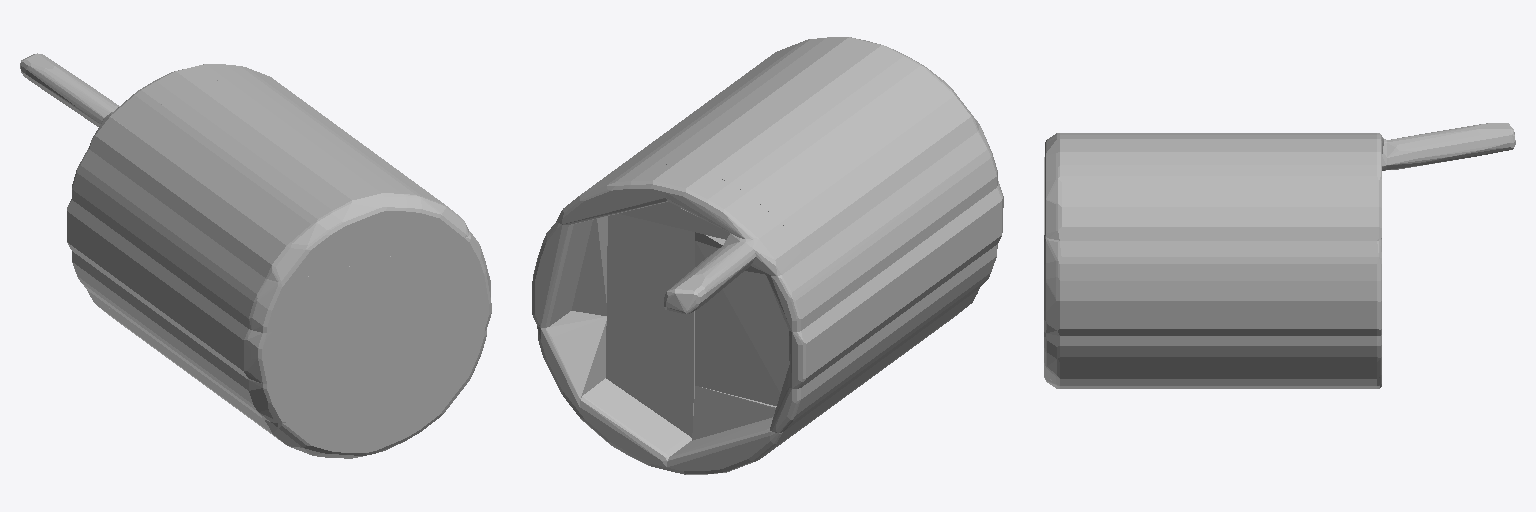
URDF robot description (root):
<robot name="root">
  <link name="link_coacd_convex_piece_0">
    <inertial>
      <origin xyz="0 0 0" rpy="0 0 0"/>
      <inertia ixx="1.39E-03" ixy="6.05E-04" ixz="3.24E-04" iyy="6.59E-04" iyz="-7.02E-04" izz="1.29E-03"/>
    </inertial>
    <visual>
      <origin xyz="0 0 0" rpy="0 0 0"/>
      <geometry>
        <mesh filename="coacd_convex_piece_0.obj" scale="1.0000E+00 1.0000E+00 1.0000E+00"/>
      </geometry>
      <material name="">
        <color rgba="7.50E-01 7.50E-01 7.50E-01 1"/>
      </material>
    </visual>
    <collision>
      <origin xyz="0 0 0" rpy="0 0 0"/>
      <geometry>
        <mesh filename="coacd_convex_piece_0.obj" scale="1.0000E+00 1.0000E+00 1.0000E+00"/>
      </geometry>
    </collision>
  </link>
  <link name="link_coacd_convex_piece_1">
    <inertial>
      <origin xyz="0 0 0" rpy="0 0 0"/>
      <inertia ixx="5.13E-04" ixy="-2.13E-04" ixz="-2.50E-04" iyy="7.11E-04" iyz="-4.26E-04" izz="1.42E-04"/>
    </inertial>
    <visual>
      <origin xyz="0 0 0" rpy="0 0 0"/>
      <geometry>
        <mesh filename="coacd_convex_piece_1.obj" scale="1.0000E+00 1.0000E+00 1.0000E+00"/>
      </geometry>
      <material name="">
        <color rgba="7.50E-01 7.50E-01 7.50E-01 1"/>
      </material>
    </visual>
    <collision>
      <origin xyz="0 0 0" rpy="0 0 0"/>
      <geometry>
        <mesh filename="coacd_convex_piece_1.obj" scale="1.0000E+00 1.0000E+00 1.0000E+00"/>
      </geometry>
    </collision>
  </link>
  <joint name="link_coacd_convex_piece_1_joint" type="fixed">
    <origin xyz="0 0 0" rpy="0 0 0"/>
    <parent link="link_coacd_convex_piece_0"/>
    <child link="link_coacd_convex_piece_1"/>
  </joint>
  <link name="link_coacd_convex_piece_2">
    <inertial>
      <origin xyz="0 0 0" rpy="0 0 0"/>
      <inertia ixx="2.21E-02" ixy="-2.87E-06" ixz="5.48E-07" iyy="1.56E-02" iyz="1.09E-02" izz="1.31E-02"/>
    </inertial>
    <visual>
      <origin xyz="0 0 0" rpy="0 0 0"/>
      <geometry>
        <mesh filename="coacd_convex_piece_2.obj" scale="1.0000E+00 1.0000E+00 1.0000E+00"/>
      </geometry>
      <material name="">
        <color rgba="7.50E-01 7.50E-01 7.50E-01 1"/>
      </material>
    </visual>
    <collision>
      <origin xyz="0 0 0" rpy="0 0 0"/>
      <geometry>
        <mesh filename="coacd_convex_piece_2.obj" scale="1.0000E+00 1.0000E+00 1.0000E+00"/>
      </geometry>
    </collision>
  </link>
  <joint name="link_coacd_convex_piece_2_joint" type="fixed">
    <origin xyz="0 0 0" rpy="0 0 0"/>
    <parent link="link_coacd_convex_piece_1"/>
    <child link="link_coacd_convex_piece_2"/>
  </joint>
  <link name="link_coacd_convex_piece_3">
    <inertial>
      <origin xyz="0 0 0" rpy="0 0 0"/>
      <inertia ixx="1.83E-03" ixy="-1.55E-03" ixz="-9.84E-04" iyy="2.79E-03" iyz="-6.61E-04" izz="3.71E-03"/>
    </inertial>
    <visual>
      <origin xyz="0 0 0" rpy="0 0 0"/>
      <geometry>
        <mesh filename="coacd_convex_piece_3.obj" scale="1.0000E+00 1.0000E+00 1.0000E+00"/>
      </geometry>
      <material name="">
        <color rgba="7.50E-01 7.50E-01 7.50E-01 1"/>
      </material>
    </visual>
    <collision>
      <origin xyz="0 0 0" rpy="0 0 0"/>
      <geometry>
        <mesh filename="coacd_convex_piece_3.obj" scale="1.0000E+00 1.0000E+00 1.0000E+00"/>
      </geometry>
    </collision>
  </link>
  <joint name="link_coacd_convex_piece_3_joint" type="fixed">
    <origin xyz="0 0 0" rpy="0 0 0"/>
    <parent link="link_coacd_convex_piece_2"/>
    <child link="link_coacd_convex_piece_3"/>
  </joint>
  <link name="link_coacd_convex_piece_4">
    <inertial>
      <origin xyz="0 0 0" rpy="0 0 0"/>
      <inertia ixx="3.49E-03" ixy="2.43E-03" ixz="1.88E-03" iyy="4.68E-03" iyz="-1.32E-03" izz="5.83E-03"/>
    </inertial>
    <visual>
      <origin xyz="0 0 0" rpy="0 0 0"/>
      <geometry>
        <mesh filename="coacd_convex_piece_4.obj" scale="1.0000E+00 1.0000E+00 1.0000E+00"/>
      </geometry>
      <material name="">
        <color rgba="7.50E-01 7.50E-01 7.50E-01 1"/>
      </material>
    </visual>
    <collision>
      <origin xyz="0 0 0" rpy="0 0 0"/>
      <geometry>
        <mesh filename="coacd_convex_piece_4.obj" scale="1.0000E+00 1.0000E+00 1.0000E+00"/>
      </geometry>
    </collision>
  </link>
  <joint name="link_coacd_convex_piece_4_joint" type="fixed">
    <origin xyz="0 0 0" rpy="0 0 0"/>
    <parent link="link_coacd_convex_piece_3"/>
    <child link="link_coacd_convex_piece_4"/>
  </joint>
  <link name="link_coacd_convex_piece_5">
    <inertial>
      <origin xyz="0 0 0" rpy="0 0 0"/>
      <inertia ixx="2.75E-02" ixy="8.50E-03" ixz="2.08E-03" iyy="1.40E-02" iyz="-5.06E-03" izz="2.37E-02"/>
    </inertial>
    <visual>
      <origin xyz="0 0 0" rpy="0 0 0"/>
      <geometry>
        <mesh filename="coacd_convex_piece_5.obj" scale="1.0000E+00 1.0000E+00 1.0000E+00"/>
      </geometry>
      <material name="">
        <color rgba="7.50E-01 7.50E-01 7.50E-01 1"/>
      </material>
    </visual>
    <collision>
      <origin xyz="0 0 0" rpy="0 0 0"/>
      <geometry>
        <mesh filename="coacd_convex_piece_5.obj" scale="1.0000E+00 1.0000E+00 1.0000E+00"/>
      </geometry>
    </collision>
  </link>
  <joint name="link_coacd_convex_piece_5_joint" type="fixed">
    <origin xyz="0 0 0" rpy="0 0 0"/>
    <parent link="link_coacd_convex_piece_4"/>
    <child link="link_coacd_convex_piece_5"/>
  </joint>
  <link name="link_coacd_convex_piece_6">
    <inertial>
      <origin xyz="0 0 0" rpy="0 0 0"/>
      <inertia ixx="5.06E-04" ixy="2.23E-04" ixz="-2.57E-04" iyy="7.17E-04" iyz="4.23E-04" izz="1.55E-04"/>
    </inertial>
    <visual>
      <origin xyz="0 0 0" rpy="0 0 0"/>
      <geometry>
        <mesh filename="coacd_convex_piece_6.obj" scale="1.0000E+00 1.0000E+00 1.0000E+00"/>
      </geometry>
      <material name="">
        <color rgba="7.50E-01 7.50E-01 7.50E-01 1"/>
      </material>
    </visual>
    <collision>
      <origin xyz="0 0 0" rpy="0 0 0"/>
      <geometry>
        <mesh filename="coacd_convex_piece_6.obj" scale="1.0000E+00 1.0000E+00 1.0000E+00"/>
      </geometry>
    </collision>
  </link>
  <joint name="link_coacd_convex_piece_6_joint" type="fixed">
    <origin xyz="0 0 0" rpy="0 0 0"/>
    <parent link="link_coacd_convex_piece_5"/>
    <child link="link_coacd_convex_piece_6"/>
  </joint>
  <link name="link_coacd_convex_piece_7">
    <inertial>
      <origin xyz="0 0 0" rpy="0 0 0"/>
      <inertia ixx="1.17E-02" ixy="-2.66E-03" ixz="-2.75E-03" iyy="8.23E-03" iyz="-5.78E-03" izz="7.17E-03"/>
    </inertial>
    <visual>
      <origin xyz="0 0 0" rpy="0 0 0"/>
      <geometry>
        <mesh filename="coacd_convex_piece_7.obj" scale="1.0000E+00 1.0000E+00 1.0000E+00"/>
      </geometry>
      <material name="">
        <color rgba="7.50E-01 7.50E-01 7.50E-01 1"/>
      </material>
    </visual>
    <collision>
      <origin xyz="0 0 0" rpy="0 0 0"/>
      <geometry>
        <mesh filename="coacd_convex_piece_7.obj" scale="1.0000E+00 1.0000E+00 1.0000E+00"/>
      </geometry>
    </collision>
  </link>
  <joint name="link_coacd_convex_piece_7_joint" type="fixed">
    <origin xyz="0 0 0" rpy="0 0 0"/>
    <parent link="link_coacd_convex_piece_6"/>
    <child link="link_coacd_convex_piece_7"/>
  </joint>
  <link name="link_coacd_convex_piece_8">
    <inertial>
      <origin xyz="0 0 0" rpy="0 0 0"/>
      <inertia ixx="3.29E-04" ixy="7.58E-05" ixz="1.02E-04" iyy="3.86E-04" iyz="-2.47E-04" izz="2.91E-05"/>
    </inertial>
    <visual>
      <origin xyz="0 0 0" rpy="0 0 0"/>
      <geometry>
        <mesh filename="coacd_convex_piece_8.obj" scale="1.0000E+00 1.0000E+00 1.0000E+00"/>
      </geometry>
      <material name="">
        <color rgba="7.50E-01 7.50E-01 7.50E-01 1"/>
      </material>
    </visual>
    <collision>
      <origin xyz="0 0 0" rpy="0 0 0"/>
      <geometry>
        <mesh filename="coacd_convex_piece_8.obj" scale="1.0000E+00 1.0000E+00 1.0000E+00"/>
      </geometry>
    </collision>
  </link>
  <joint name="link_coacd_convex_piece_8_joint" type="fixed">
    <origin xyz="0 0 0" rpy="0 0 0"/>
    <parent link="link_coacd_convex_piece_7"/>
    <child link="link_coacd_convex_piece_8"/>
  </joint>
  <link name="link_coacd_convex_piece_9">
    <inertial>
      <origin xyz="0 0 0" rpy="0 0 0"/>
      <inertia ixx="1.96E-04" ixy="1.77E-04" ixz="1.78E-04" iyy="3.65E-04" iyz="-2.00E-04" izz="1.55E-04"/>
    </inertial>
    <visual>
      <origin xyz="0 0 0" rpy="0 0 0"/>
      <geometry>
        <mesh filename="coacd_convex_piece_9.obj" scale="1.0000E+00 1.0000E+00 1.0000E+00"/>
      </geometry>
      <material name="">
        <color rgba="7.50E-01 7.50E-01 7.50E-01 1"/>
      </material>
    </visual>
    <collision>
      <origin xyz="0 0 0" rpy="0 0 0"/>
      <geometry>
        <mesh filename="coacd_convex_piece_9.obj" scale="1.0000E+00 1.0000E+00 1.0000E+00"/>
      </geometry>
    </collision>
  </link>
  <joint name="link_coacd_convex_piece_9_joint" type="fixed">
    <origin xyz="0 0 0" rpy="0 0 0"/>
    <parent link="link_coacd_convex_piece_8"/>
    <child link="link_coacd_convex_piece_9"/>
  </joint>
  <link name="link_coacd_convex_piece_10">
    <inertial>
      <origin xyz="0 0 0" rpy="0 0 0"/>
      <inertia ixx="3.08E-05" ixy="-4.05E-04" ixz="-1.15E-04" iyy="6.16E-04" iyz="-8.88E-05" izz="5.33E-04"/>
    </inertial>
    <visual>
      <origin xyz="0 0 0" rpy="0 0 0"/>
      <geometry>
        <mesh filename="coacd_convex_piece_10.obj" scale="1.0000E+00 1.0000E+00 1.0000E+00"/>
      </geometry>
      <material name="">
        <color rgba="7.50E-01 7.50E-01 7.50E-01 1"/>
      </material>
    </visual>
    <collision>
      <origin xyz="0 0 0" rpy="0 0 0"/>
      <geometry>
        <mesh filename="coacd_convex_piece_10.obj" scale="1.0000E+00 1.0000E+00 1.0000E+00"/>
      </geometry>
    </collision>
  </link>
  <joint name="link_coacd_convex_piece_10_joint" type="fixed">
    <origin xyz="0 0 0" rpy="0 0 0"/>
    <parent link="link_coacd_convex_piece_9"/>
    <child link="link_coacd_convex_piece_10"/>
  </joint>
  <link name="link_coacd_convex_piece_11">
    <inertial>
      <origin xyz="0 0 0" rpy="0 0 0"/>
      <inertia ixx="5.34E-03" ixy="5.57E-03" ixz="-1.20E-03" iyy="7.38E-03" iyz="1.05E-03" izz="1.13E-02"/>
    </inertial>
    <visual>
      <origin xyz="0 0 0" rpy="0 0 0"/>
      <geometry>
        <mesh filename="coacd_convex_piece_11.obj" scale="1.0000E+00 1.0000E+00 1.0000E+00"/>
      </geometry>
      <material name="">
        <color rgba="7.50E-01 7.50E-01 7.50E-01 1"/>
      </material>
    </visual>
    <collision>
      <origin xyz="0 0 0" rpy="0 0 0"/>
      <geometry>
        <mesh filename="coacd_convex_piece_11.obj" scale="1.0000E+00 1.0000E+00 1.0000E+00"/>
      </geometry>
    </collision>
  </link>
  <joint name="link_coacd_convex_piece_11_joint" type="fixed">
    <origin xyz="0 0 0" rpy="0 0 0"/>
    <parent link="link_coacd_convex_piece_10"/>
    <child link="link_coacd_convex_piece_11"/>
  </joint>
  <link name="link_coacd_convex_piece_12">
    <inertial>
      <origin xyz="0 0 0" rpy="0 0 0"/>
      <inertia ixx="4.38E-04" ixy="-1.38E-04" ixz="1.75E-04" iyy="5.59E-04" iyz="3.47E-04" izz="6.47E-05"/>
    </inertial>
    <visual>
      <origin xyz="0 0 0" rpy="0 0 0"/>
      <geometry>
        <mesh filename="coacd_convex_piece_12.obj" scale="1.0000E+00 1.0000E+00 1.0000E+00"/>
      </geometry>
      <material name="">
        <color rgba="7.50E-01 7.50E-01 7.50E-01 1"/>
      </material>
    </visual>
    <collision>
      <origin xyz="0 0 0" rpy="0 0 0"/>
      <geometry>
        <mesh filename="coacd_convex_piece_12.obj" scale="1.0000E+00 1.0000E+00 1.0000E+00"/>
      </geometry>
    </collision>
  </link>
  <joint name="link_coacd_convex_piece_12_joint" type="fixed">
    <origin xyz="0 0 0" rpy="0 0 0"/>
    <parent link="link_coacd_convex_piece_11"/>
    <child link="link_coacd_convex_piece_12"/>
  </joint>
  <link name="link_coacd_convex_piece_13">
    <inertial>
      <origin xyz="0 0 0" rpy="0 0 0"/>
      <inertia ixx="2.23E-03" ixy="-2.54E-03" ixz="9.53E-06" iyy="3.92E-03" iyz="6.34E-06" izz="6.02E-03"/>
    </inertial>
    <visual>
      <origin xyz="0 0 0" rpy="0 0 0"/>
      <geometry>
        <mesh filename="coacd_convex_piece_13.obj" scale="1.0000E+00 1.0000E+00 1.0000E+00"/>
      </geometry>
      <material name="">
        <color rgba="7.50E-01 7.50E-01 7.50E-01 1"/>
      </material>
    </visual>
    <collision>
      <origin xyz="0 0 0" rpy="0 0 0"/>
      <geometry>
        <mesh filename="coacd_convex_piece_13.obj" scale="1.0000E+00 1.0000E+00 1.0000E+00"/>
      </geometry>
    </collision>
  </link>
  <joint name="link_coacd_convex_piece_13_joint" type="fixed">
    <origin xyz="0 0 0" rpy="0 0 0"/>
    <parent link="link_coacd_convex_piece_12"/>
    <child link="link_coacd_convex_piece_13"/>
  </joint>
  <link name="link_coacd_convex_piece_14">
    <inertial>
      <origin xyz="0 0 0" rpy="0 0 0"/>
      <inertia ixx="1.73E-03" ixy="-5.56E-04" ixz="4.38E-04" iyy="1.04E-03" iyz="8.23E-04" izz="1.48E-03"/>
    </inertial>
    <visual>
      <origin xyz="0 0 0" rpy="0 0 0"/>
      <geometry>
        <mesh filename="coacd_convex_piece_14.obj" scale="1.0000E+00 1.0000E+00 1.0000E+00"/>
      </geometry>
      <material name="">
        <color rgba="7.50E-01 7.50E-01 7.50E-01 1"/>
      </material>
    </visual>
    <collision>
      <origin xyz="0 0 0" rpy="0 0 0"/>
      <geometry>
        <mesh filename="coacd_convex_piece_14.obj" scale="1.0000E+00 1.0000E+00 1.0000E+00"/>
      </geometry>
    </collision>
  </link>
  <joint name="link_coacd_convex_piece_14_joint" type="fixed">
    <origin xyz="0 0 0" rpy="0 0 0"/>
    <parent link="link_coacd_convex_piece_13"/>
    <child link="link_coacd_convex_piece_14"/>
  </joint>
  <link name="link_coacd_convex_piece_15">
    <inertial>
      <origin xyz="0 0 0" rpy="0 0 0"/>
      <inertia ixx="1.65E-02" ixy="-7.23E-03" ixz="-2.80E-04" iyy="7.39E-03" iyz="-5.46E-04" izz="1.88E-02"/>
    </inertial>
    <visual>
      <origin xyz="0 0 0" rpy="0 0 0"/>
      <geometry>
        <mesh filename="coacd_convex_piece_15.obj" scale="1.0000E+00 1.0000E+00 1.0000E+00"/>
      </geometry>
      <material name="">
        <color rgba="7.50E-01 7.50E-01 7.50E-01 1"/>
      </material>
    </visual>
    <collision>
      <origin xyz="0 0 0" rpy="0 0 0"/>
      <geometry>
        <mesh filename="coacd_convex_piece_15.obj" scale="1.0000E+00 1.0000E+00 1.0000E+00"/>
      </geometry>
    </collision>
  </link>
  <joint name="link_coacd_convex_piece_15_joint" type="fixed">
    <origin xyz="0 0 0" rpy="0 0 0"/>
    <parent link="link_coacd_convex_piece_14"/>
    <child link="link_coacd_convex_piece_15"/>
  </joint>
  <link name="link_coacd_convex_piece_16">
    <inertial>
      <origin xyz="0 0 0" rpy="0 0 0"/>
      <inertia ixx="1.93E-03" ixy="-1.58E-03" ixz="1.05E-03" iyy="2.91E-03" iyz="6.99E-04" izz="3.83E-03"/>
    </inertial>
    <visual>
      <origin xyz="0 0 0" rpy="0 0 0"/>
      <geometry>
        <mesh filename="coacd_convex_piece_16.obj" scale="1.0000E+00 1.0000E+00 1.0000E+00"/>
      </geometry>
      <material name="">
        <color rgba="7.50E-01 7.50E-01 7.50E-01 1"/>
      </material>
    </visual>
    <collision>
      <origin xyz="0 0 0" rpy="0 0 0"/>
      <geometry>
        <mesh filename="coacd_convex_piece_16.obj" scale="1.0000E+00 1.0000E+00 1.0000E+00"/>
      </geometry>
    </collision>
  </link>
  <joint name="link_coacd_convex_piece_16_joint" type="fixed">
    <origin xyz="0 0 0" rpy="0 0 0"/>
    <parent link="link_coacd_convex_piece_15"/>
    <child link="link_coacd_convex_piece_16"/>
  </joint>
</robot>

--- Facts derived from the render (not from the file) ---
Views: 3 orthographic renders of the robot side by side, from view 1: azimuth 30°, elevation 25°; view 2: azimuth 150°, elevation 25°; view 3: azimuth 270°, elevation 25°.
Model root with 17 links and 16 joints (16 fixed), rooted at link_coacd_convex_piece_0, posed every joint at zero.
Links seen in each view (by area): view 1: link_coacd_convex_piece_2, link_coacd_convex_piece_5, link_coacd_convex_piece_16, link_coacd_convex_piece_13, link_coacd_convex_piece_15, link_coacd_convex_piece_3, link_coacd_convex_piece_7, link_coacd_convex_piece_11, link_coacd_convex_piece_0, link_coacd_convex_piece_8, link_coacd_convex_piece_4, link_coacd_convex_piece_9 (+2 smaller); view 2: link_coacd_convex_piece_2, link_coacd_convex_piece_5, link_coacd_convex_piece_16, link_coacd_convex_piece_13, link_coacd_convex_piece_15, link_coacd_convex_piece_3, link_coacd_convex_piece_12, link_coacd_convex_piece_4, link_coacd_convex_piece_7, link_coacd_convex_piece_8, link_coacd_convex_piece_10, link_coacd_convex_piece_1 (+4 smaller); view 3: link_coacd_convex_piece_2, link_coacd_convex_piece_11, link_coacd_convex_piece_4, link_coacd_convex_piece_0, link_coacd_convex_piece_10, link_coacd_convex_piece_1, link_coacd_convex_piece_5.
Link boxes in pixels (box(x1,y1,x2,y2)): link_coacd_convex_piece_2: box(110, 79, 468, 282); link_coacd_convex_piece_5: box(375, 241, 453, 453); link_coacd_convex_piece_16: box(72, 148, 288, 332); link_coacd_convex_piece_13: box(67, 199, 288, 383); link_coacd_convex_piece_15: box(289, 271, 374, 421); link_coacd_convex_piece_3: box(72, 251, 288, 423); link_coacd_convex_piece_7: box(108, 306, 374, 458); link_coacd_convex_piece_11: box(454, 231, 491, 338); link_coacd_convex_piece_0: box(20, 53, 119, 126); link_coacd_convex_piece_8: box(110, 68, 209, 130); link_coacd_convex_piece_4: box(453, 330, 486, 400); link_coacd_convex_piece_9: box(89, 112, 129, 163); link_coacd_convex_piece_2: box(603, 37, 978, 258); link_coacd_convex_piece_5: box(606, 214, 694, 437); link_coacd_convex_piece_16: box(766, 124, 997, 331); link_coacd_convex_piece_13: box(789, 181, 1003, 388); link_coacd_convex_piece_15: box(695, 241, 789, 405); link_coacd_convex_piece_3: box(770, 244, 997, 432); link_coacd_convex_piece_12: box(580, 378, 691, 470); link_coacd_convex_piece_4: box(537, 311, 606, 416); link_coacd_convex_piece_7: box(692, 288, 979, 441); link_coacd_convex_piece_8: box(666, 168, 780, 239); link_coacd_convex_piece_10: box(532, 220, 592, 327); link_coacd_convex_piece_1: box(557, 164, 690, 224); link_coacd_convex_piece_2: box(1045, 133, 1341, 240); link_coacd_convex_piece_11: box(1044, 231, 1340, 335); link_coacd_convex_piece_4: box(1044, 332, 1381, 385); link_coacd_convex_piece_0: box(1387, 123, 1515, 169); link_coacd_convex_piece_10: box(1341, 239, 1381, 335); link_coacd_convex_piece_1: box(1342, 145, 1381, 240); link_coacd_convex_piece_5: box(1044, 196, 1339, 388).
Bounding box of the posed robot: 0.921 × 1.69 × 0.921 m (x, y, z).
Meshes: 17 distinct files referenced, 17 mesh visuals loaded (17 OBJ).